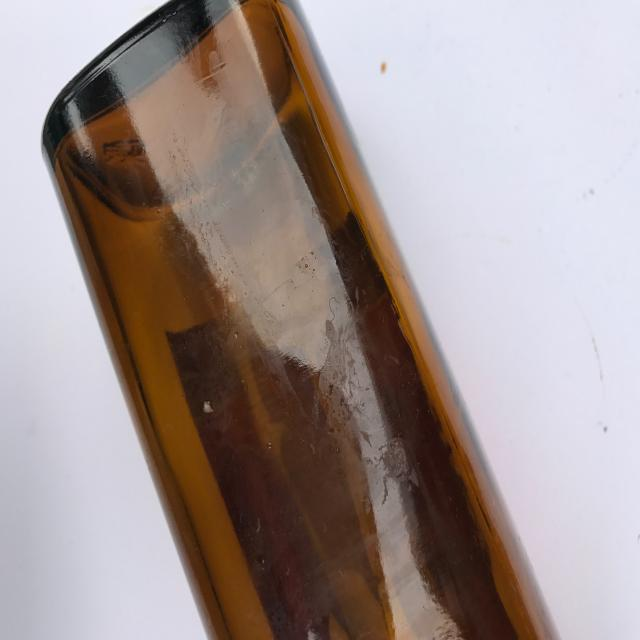glass: (41, 0, 566, 640)
